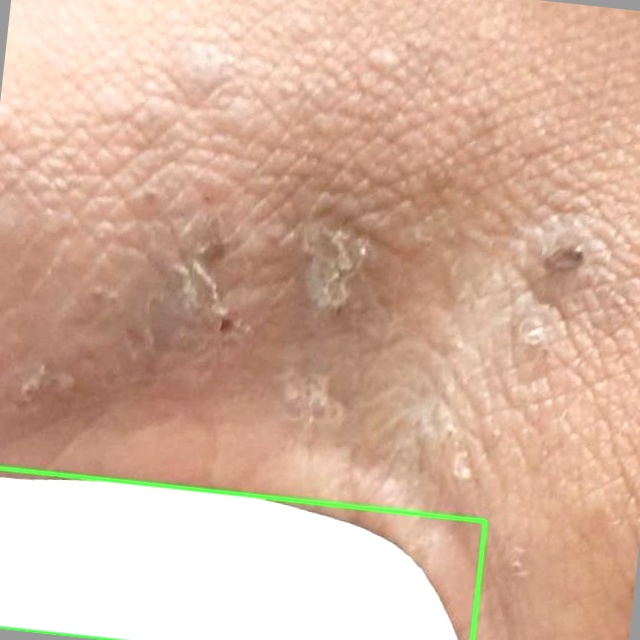Scabies: (0, 468, 486, 639)
